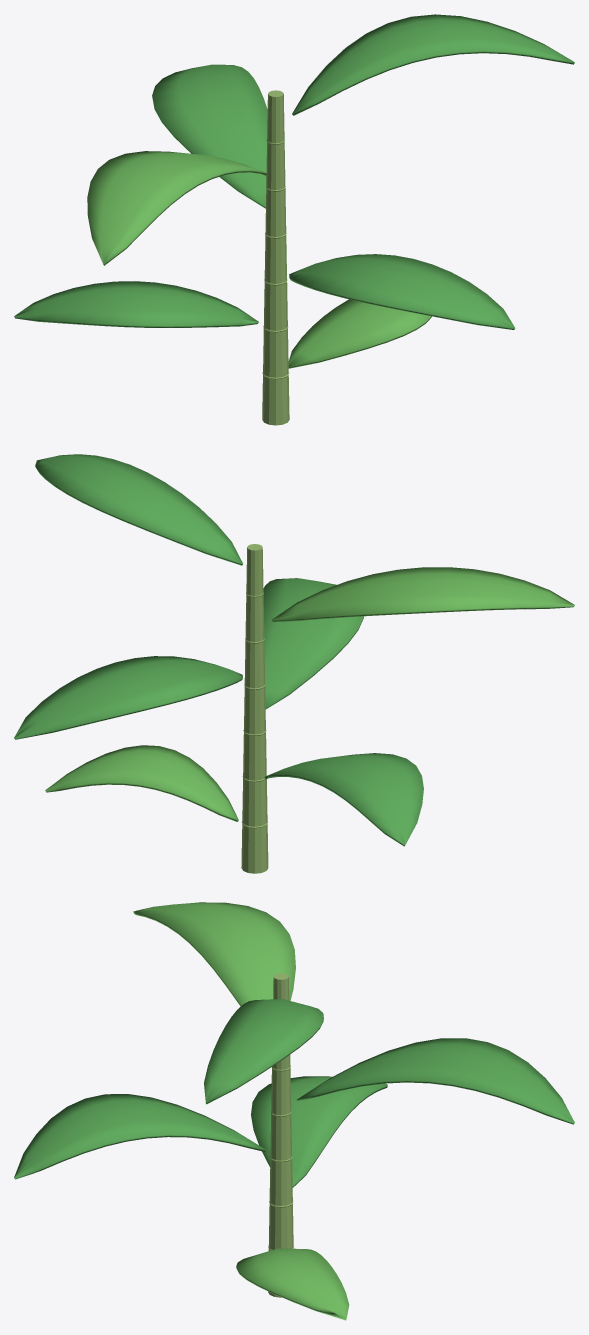
The picture shows the model from 3 angles, top to bottom: view 1: azimuth 30°, elevation 25°; view 2: azimuth 150°, elevation 25°; view 3: azimuth 270°, elevation 25°; orthographic projection. The views are drawn at different scales.
Visible parts, largest first — view 1: 叶片_04, 叶片_06, 叶片_03, 叶片_05, 叶片_02, 叶片_01, 茎节_01, 茎节_02, 茎节_03, 茎节_04, 茎节_05, 茎节_07 (+1 smaller); view 2: 叶片_05, 叶片_04, 叶片_06, 叶片_02, 叶片_03, 叶片_01, 茎节_01, 茎节_02, 茎节_03, 茎节_04, 茎节_05, 茎节_07 (+1 smaller); view 3: 叶片_04, 叶片_05, 叶片_03, 叶片_06, 叶片_02, 叶片_01, 茎节_02, 茎节_03, 茎节_04, 茎节_05.
Part boxes in pixels (<box>): 叶片_04: <box>152,64,267,208</box>; 叶片_06: <box>292,14,574,115</box>; 叶片_03: <box>289,254,515,329</box>; 叶片_05: <box>87,151,266,265</box>; 叶片_02: <box>14,281,258,327</box>; 叶片_01: <box>288,299,431,368</box>; 茎节_01: <box>262,374,289,425</box>; 茎节_02: <box>263,328,288,377</box>; 茎节_03: <box>264,281,287,330</box>; 茎节_04: <box>264,234,286,283</box>; 茎节_05: <box>265,188,286,236</box>; 茎节_07: <box>267,90,284,143</box>; 叶片_05: <box>271,567,574,621</box>; 叶片_04: <box>14,656,242,739</box>; 叶片_06: <box>35,454,242,565</box>; 叶片_02: <box>264,753,423,846</box>; 叶片_03: <box>263,578,363,709</box>; 叶片_01: <box>45,745,238,821</box>; 茎节_01: <box>241,823,268,873</box>; 茎节_02: <box>242,777,267,826</box>; 茎节_03: <box>243,732,266,780</box>; 茎节_04: <box>244,686,265,734</box>; 茎节_05: <box>244,640,265,688</box>; 茎节_07: <box>246,544,263,595</box>; 叶片_04: <box>297,1038,574,1124</box>; 叶片_05: <box>133,902,295,1006</box>; 叶片_03: <box>14,1094,265,1179</box>; 叶片_06: <box>204,999,323,1104</box>; 叶片_02: <box>251,1076,387,1187</box>; 叶片_01: <box>236,1248,349,1320</box>; 茎节_02: <box>268,1203,293,1249</box>; 茎节_03: <box>269,1158,292,1205</box>; 茎节_04: <box>270,1113,291,1160</box>; 茎节_05: <box>271,1068,291,1115</box>.
Bounding box in the file's own units: 0.6418 × 0.4321 × 0.6326.
